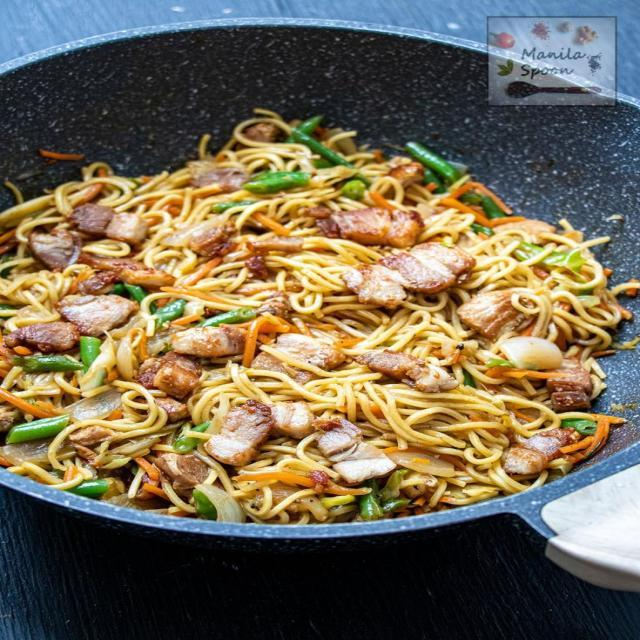pancit bihon: (4, 18, 640, 557)
